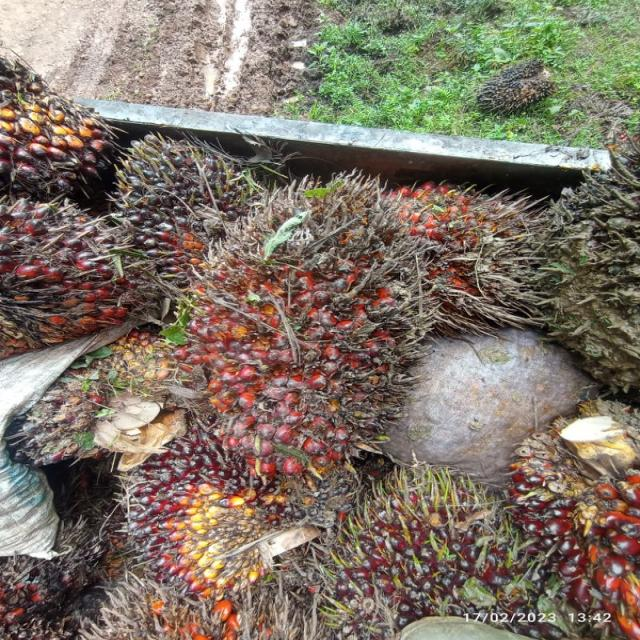fraksi 00: (102, 105, 276, 272)
fraksi 1: (104, 406, 334, 596)
fraksi 4: (157, 99, 460, 511), (388, 161, 543, 325)
